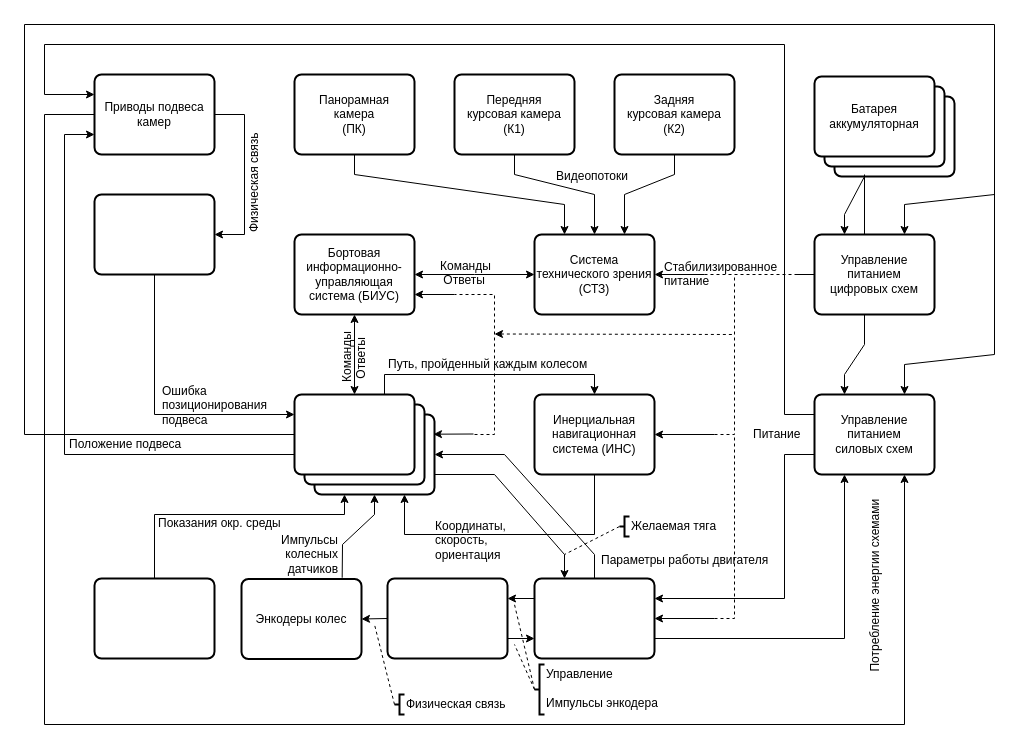
This 1020x750 diagram has some shape labels left out. The centre of each missing label's shape, as x and y in pixels:
Блок исполняющий универсальный (БИУ): the point at 354,434
Гиросистема подвеса: the point at 154,234
Датчики: the point at 154,618
Контроллер тяговых двигателей: the point at 594,618
Тяговые двигатели: the point at 447,618
